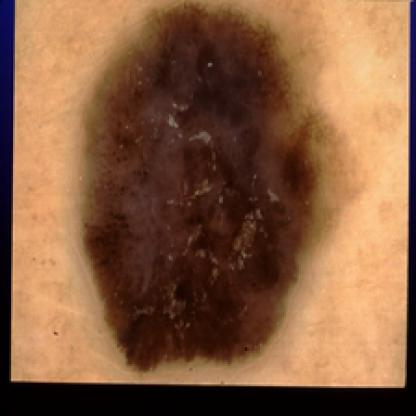malignant: (96, 17, 292, 351)
